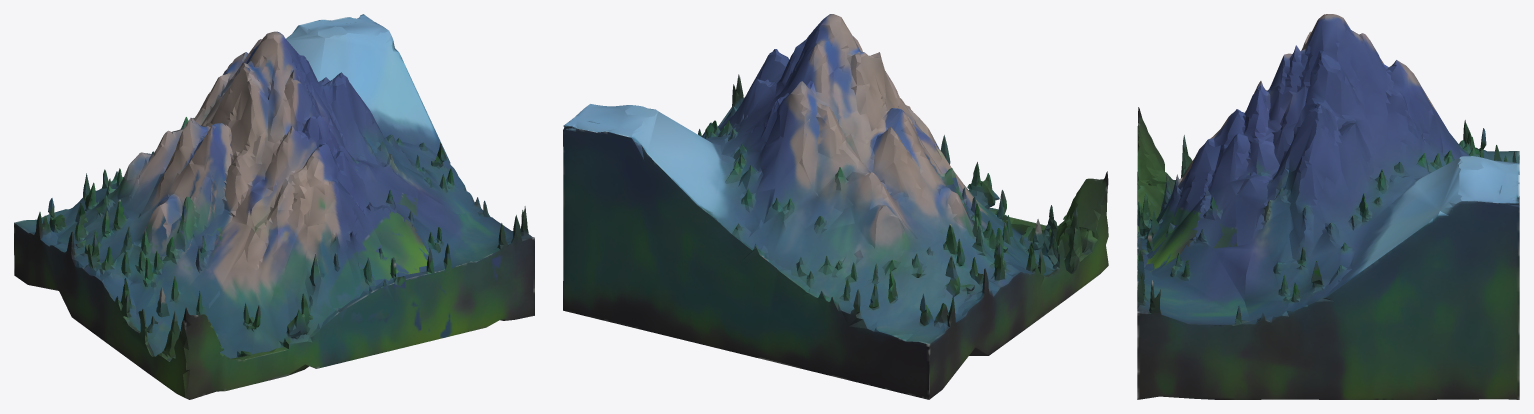
Rendered from mountain2.glb.
3 renders of one model, left to right at view 1: azimuth 30°, elevation 25°; view 2: azimuth 150°, elevation 25°; view 3: azimuth 270°, elevation 25°, orthographic. The views are drawn at different scales.
Visible parts, largest first — view 1: mountain2; view 2: mountain2; view 3: mountain2.
Part boxes in pixels (x1,y1,x2,y2): mountain2: (14, 14, 534, 399); mountain2: (563, 14, 1108, 399); mountain2: (1137, 14, 1519, 399).
Size of the model in its own units: 1.89 by 1.35 by 1.61.
1 material, 1 textured.
